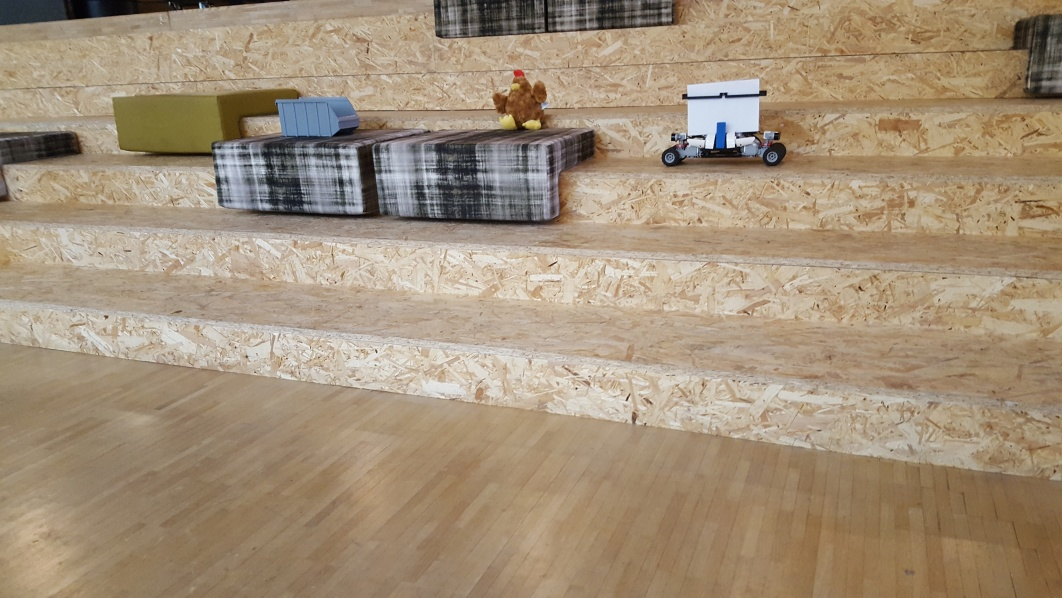beam: (715, 122, 727, 149)
chicken: (492, 68, 552, 130)
tray: (274, 96, 362, 134)
